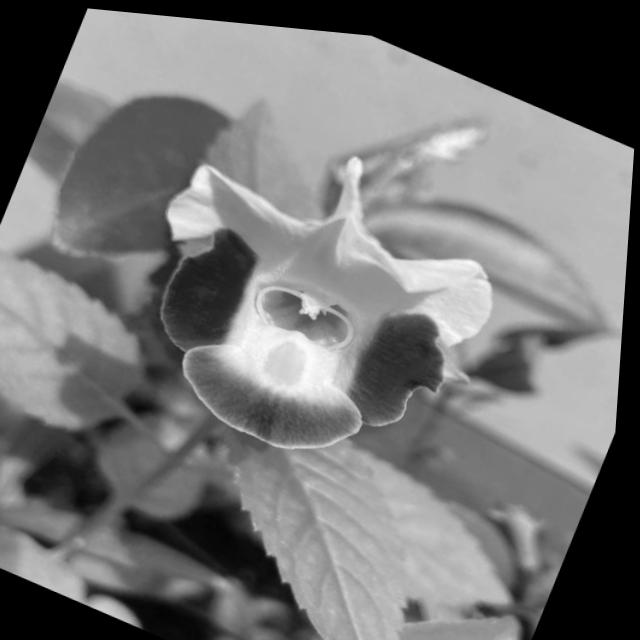Flower: (84, 84, 554, 516)
